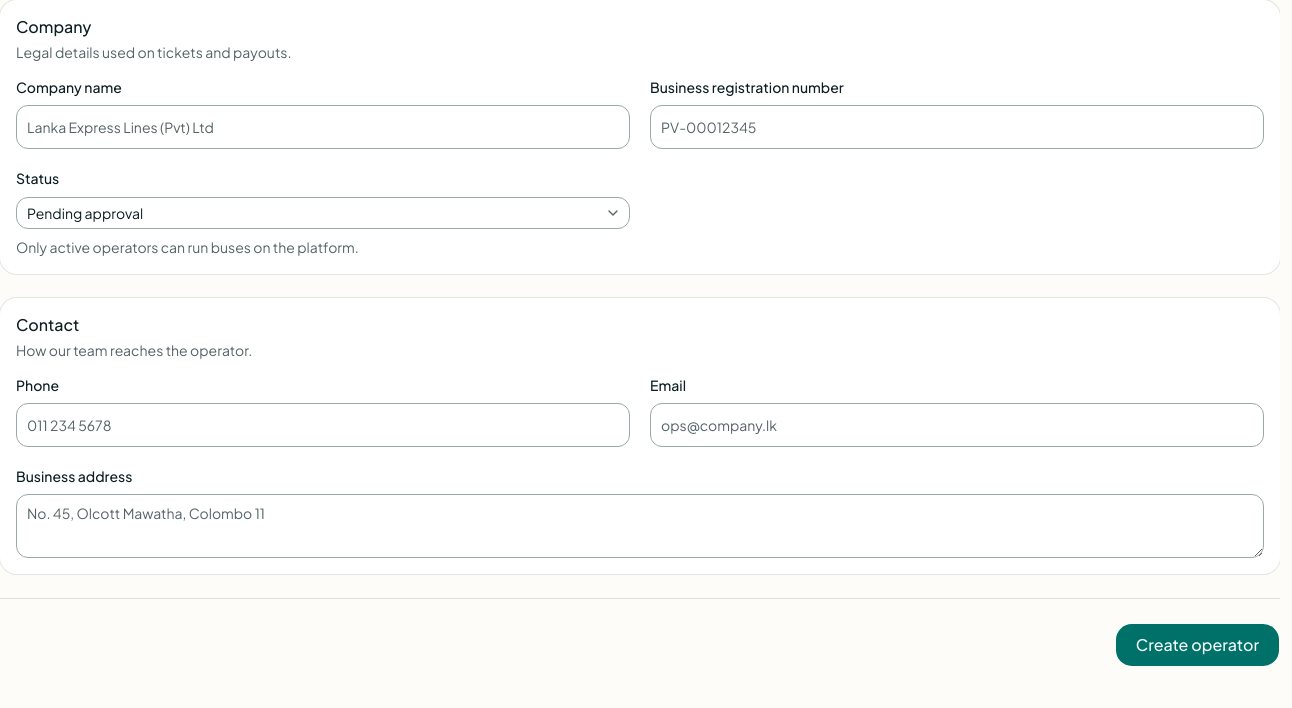
it: OperatorForm › shows validation errors instead of submitting an empty form
Click the button "Create operator".
click(1197, 645)  # box [1115,623,1280,667]
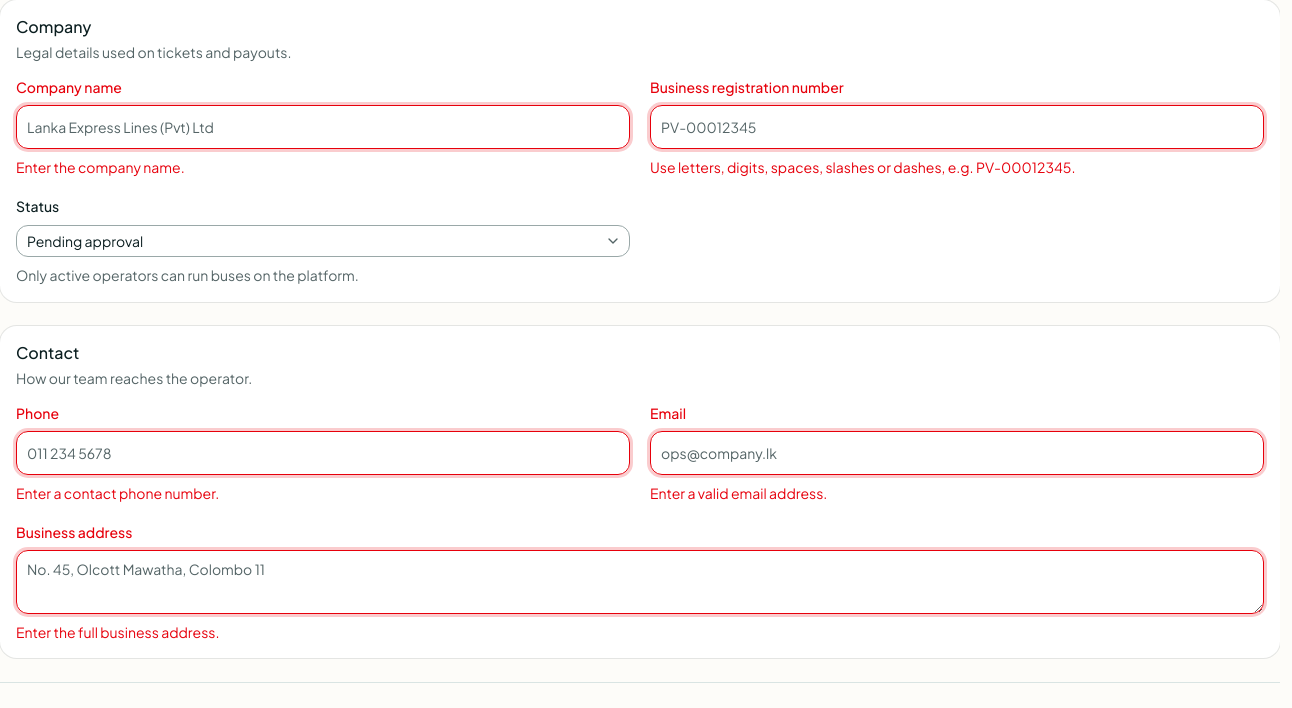
Check: the text "Enter the company name." is shown, box [16,158,185,176]
Check: the text "Enter a valid email address." is shown, box [650,484,827,502]
